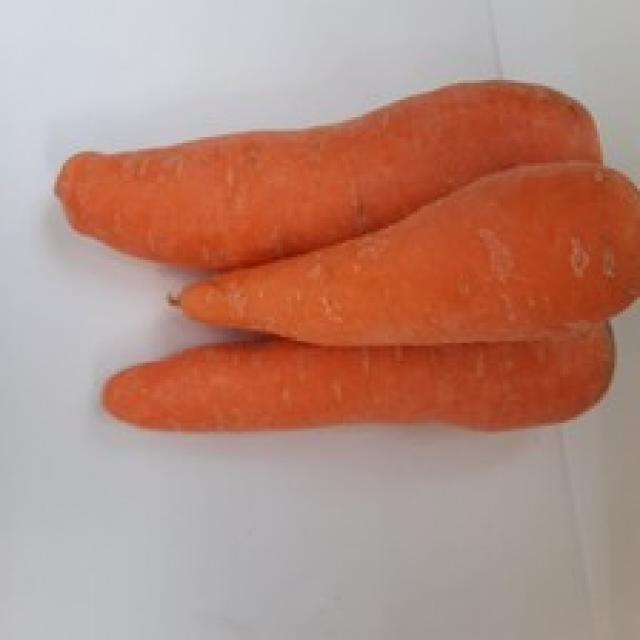carrot: (52, 67, 625, 278), (156, 163, 640, 349), (91, 291, 618, 449)
